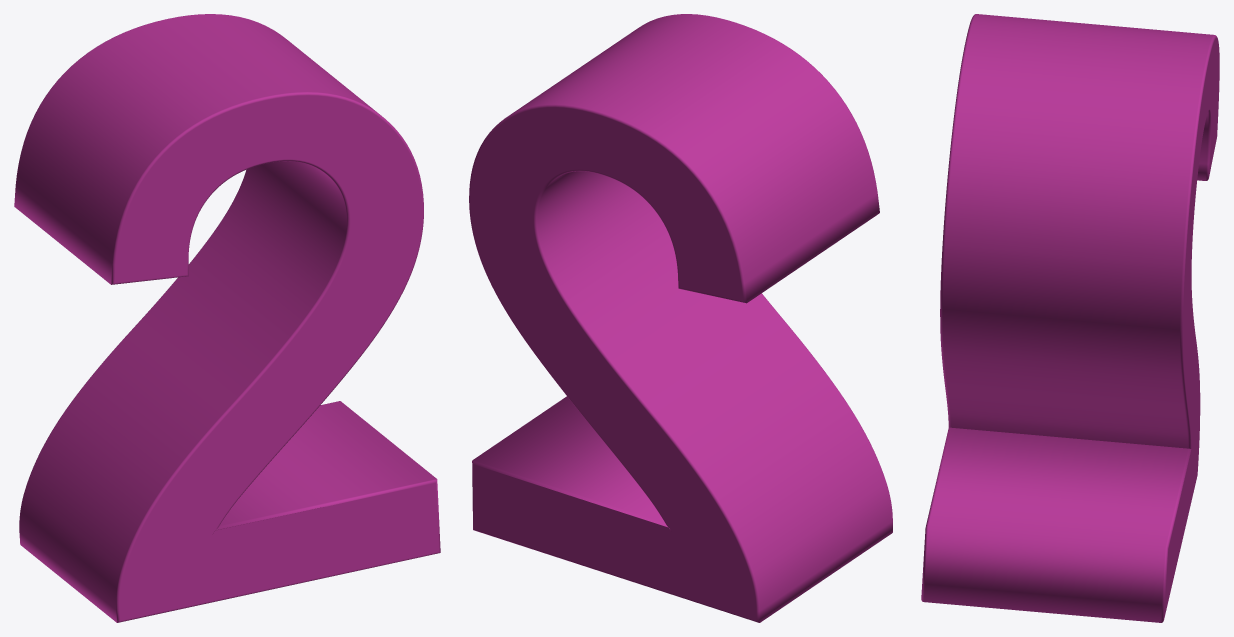
3 renders of one model, left to right at view 1: azimuth 30°, elevation 25°; view 2: azimuth 150°, elevation 25°; view 3: azimuth 270°, elevation 25°, orthographic. The views are drawn at different scales.
Visible parts, largest first — view 1: Text; view 2: Text; view 3: Text.
Boxes of the visible parts, x1=… form: Text: x1=14, y1=14, x2=440, y2=622; Text: x1=469, y1=14, x2=892, y2=622; Text: x1=921, y1=14, x2=1219, y2=622.
Size of the model in its own units: 97.54 by 141 by 75.02.
